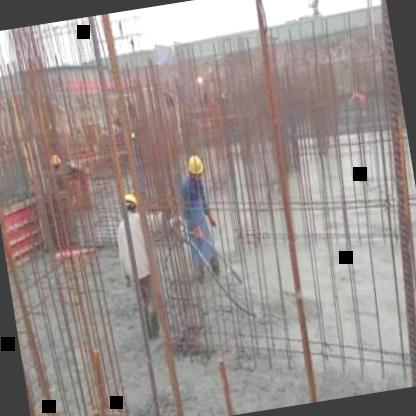helmet: (184, 150, 209, 183), (118, 186, 142, 214), (44, 150, 62, 174)
